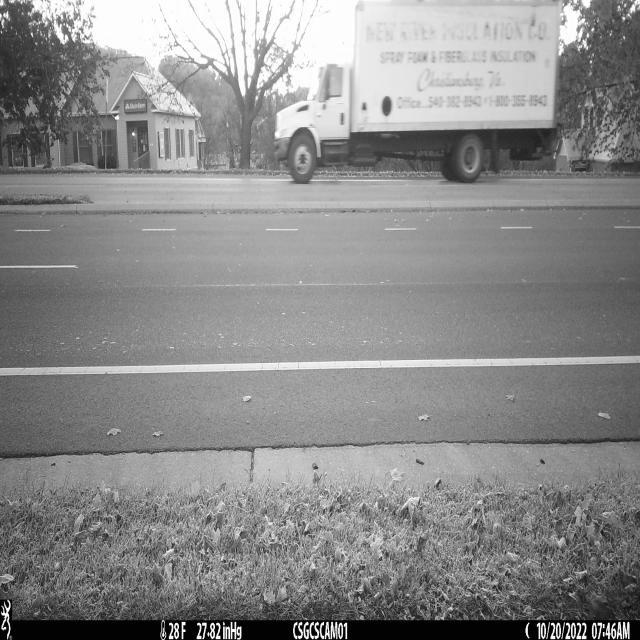Box Truck: (274, 0, 562, 184)
